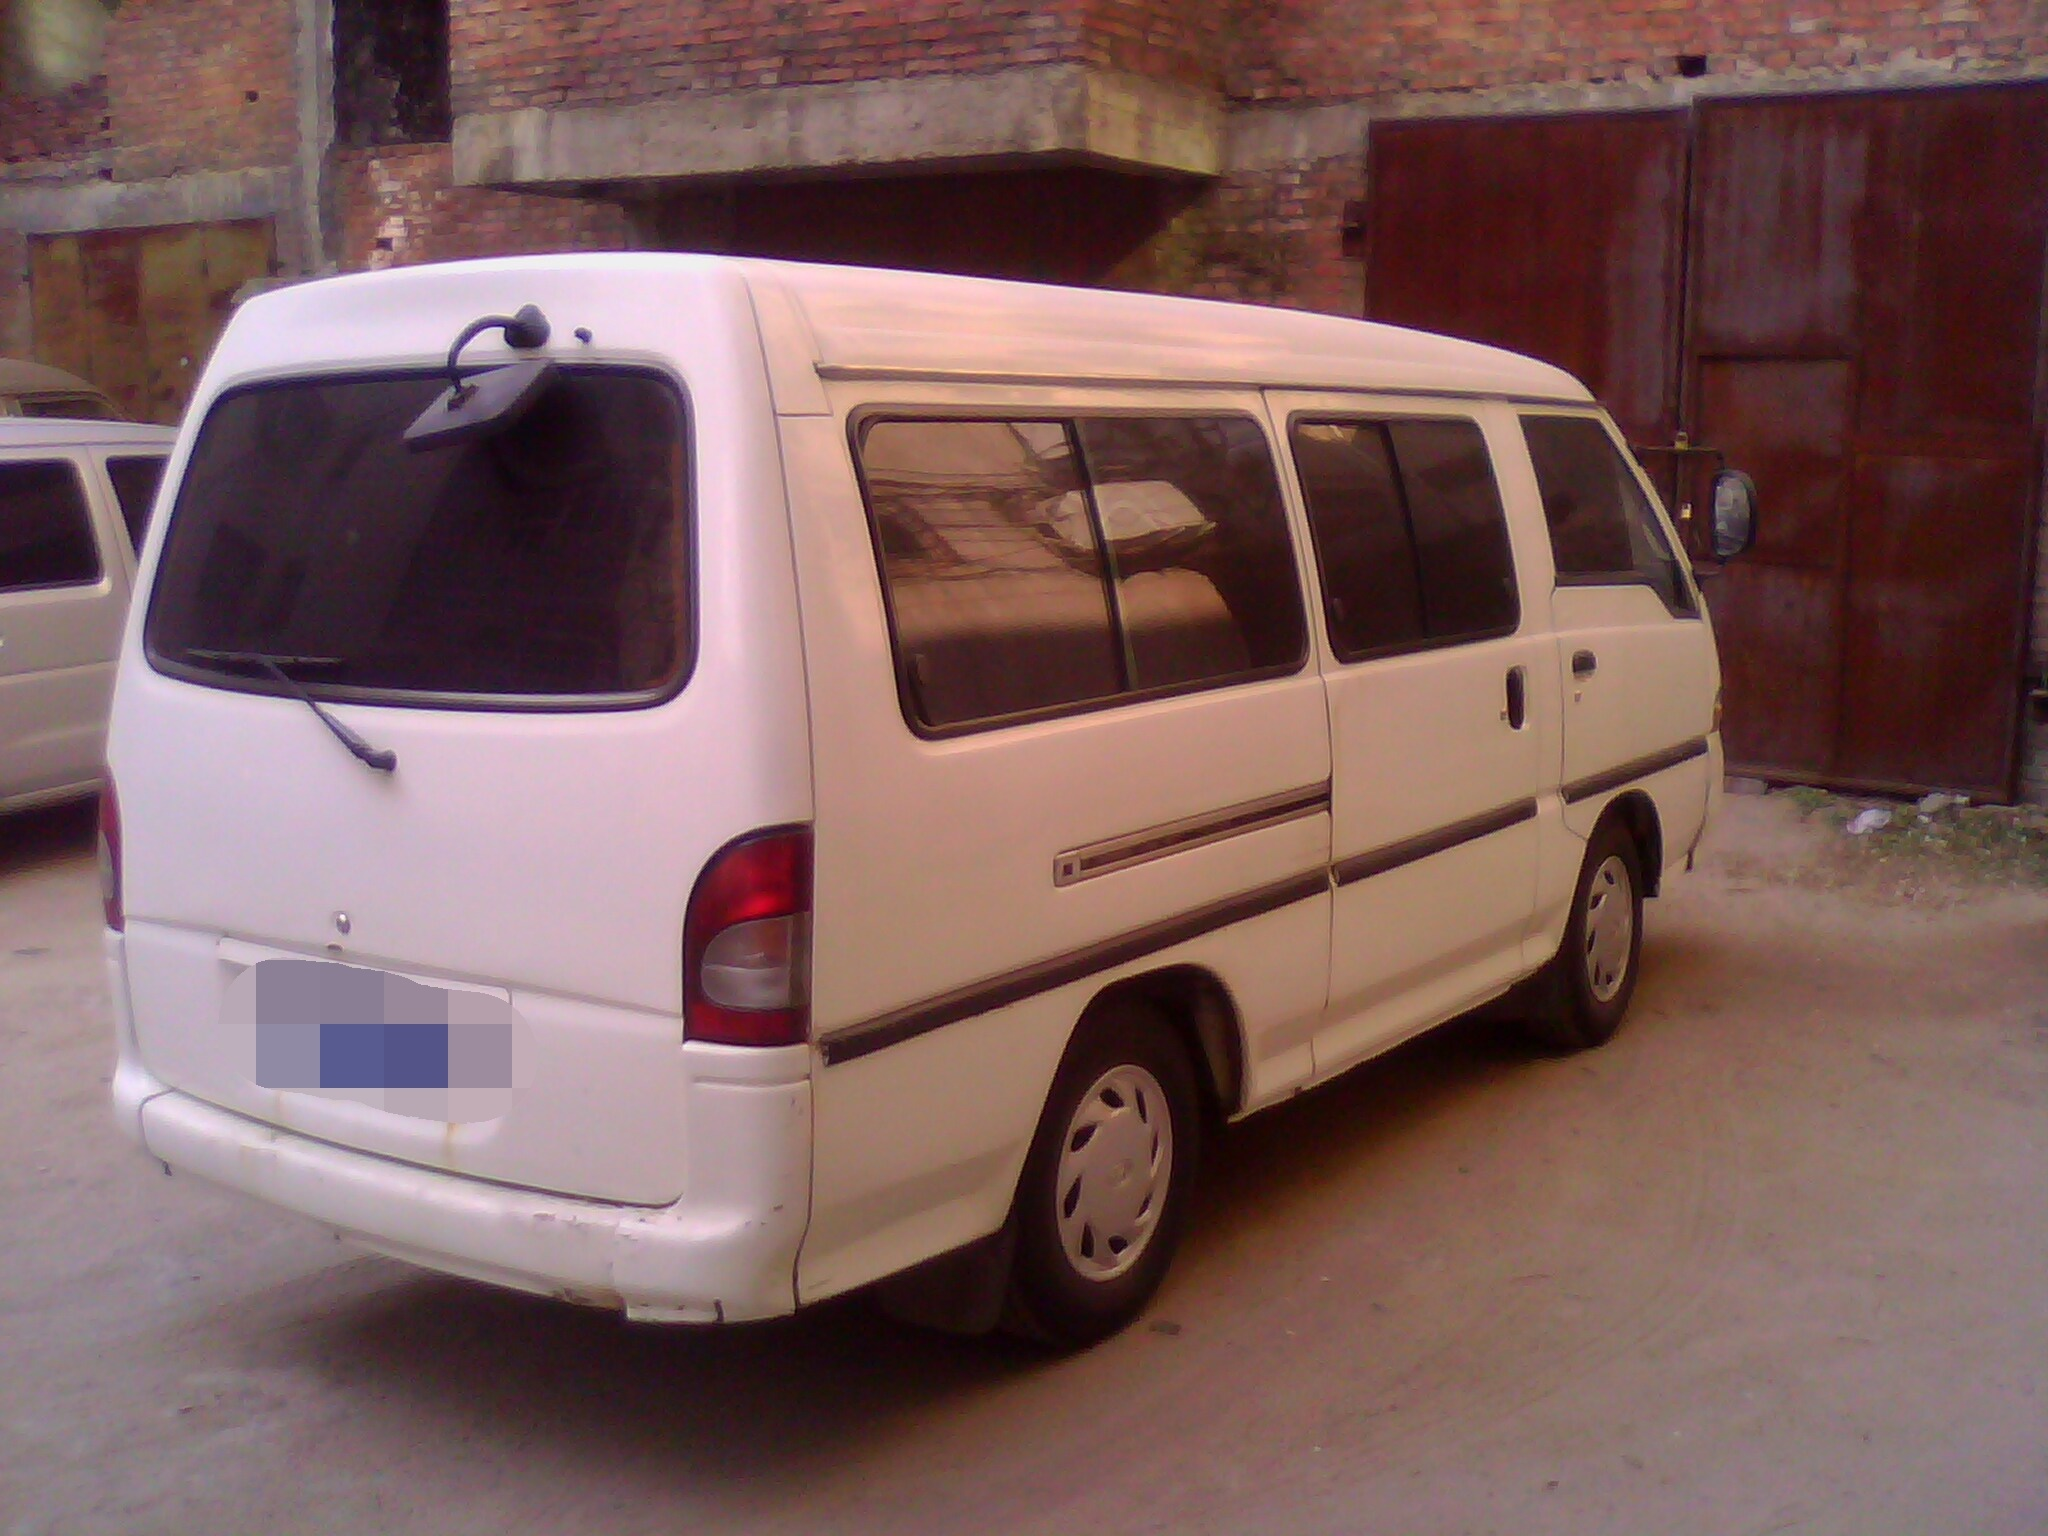minibus: (69, 219, 1784, 1354)
